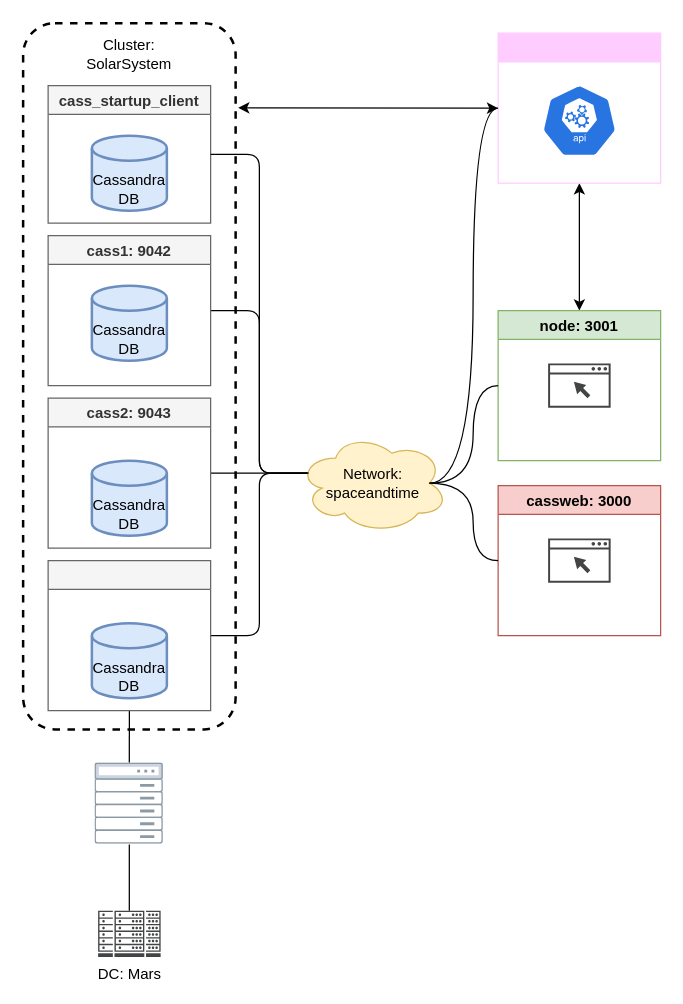
Image size: 683x1004. Some labels were removed from this diagram. The shapes that lost their labels are listed below. From the top down, each one's box as (x1, y1, x2, y2) in pixels, then its label:
(497, 32, 661, 183): stargate: 9047/48
(548, 363, 610, 407): react js app frontend
(548, 538, 610, 582): Cassandra Web Interface
(47, 559, 211, 711): cass3: 9044
(94, 762, 163, 844): Rack: West
